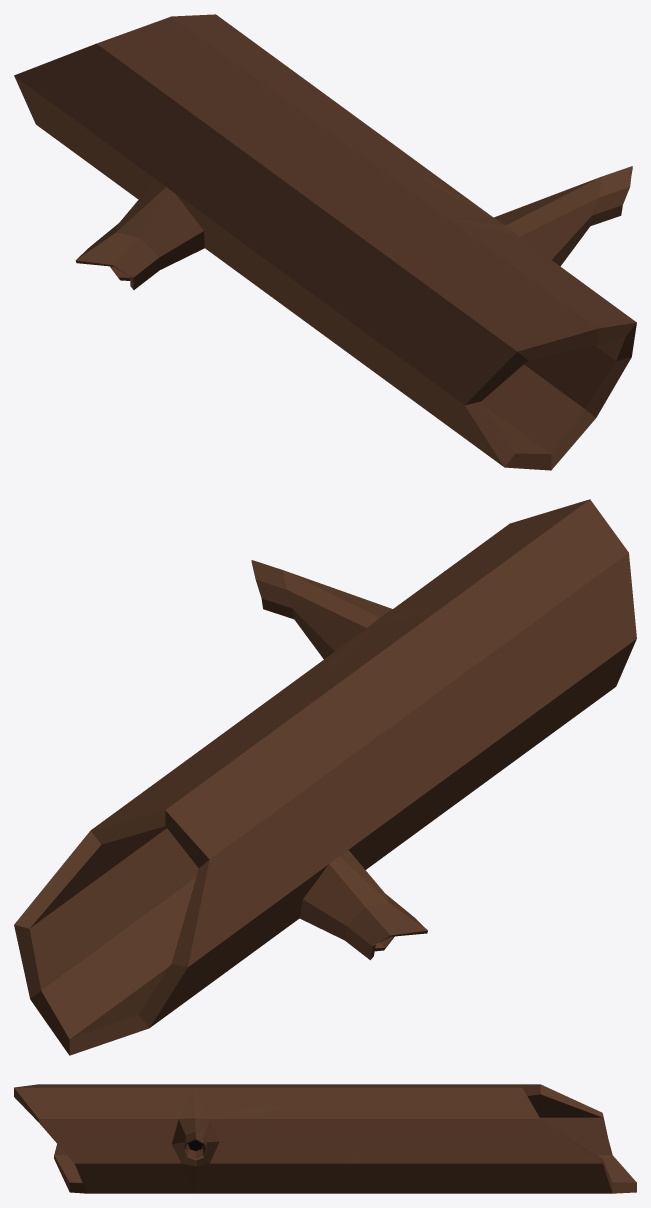
Rendered from timber01__mesh_LOD.fbx.
3 renders of one model, top to bottom at view 1: azimuth 30°, elevation 25°; view 2: azimuth 150°, elevation 25°; view 3: azimuth 270°, elevation 25°, orthographic. The views are drawn at different scales.
Parts seen in each view (by area): view 1: timber01__mesh_LOD0; view 2: timber01__mesh_LOD0; view 3: timber01__mesh_LOD0.
Boxes of the visible parts, x1,y1,x2,y2 form: timber01__mesh_LOD0: (14, 14, 636, 470); timber01__mesh_LOD0: (14, 499, 636, 1055); timber01__mesh_LOD0: (14, 1084, 636, 1193).
Size of what is drawn, in the model's own units: 535 by 252 by 1318.
1 material, 1 textured.
